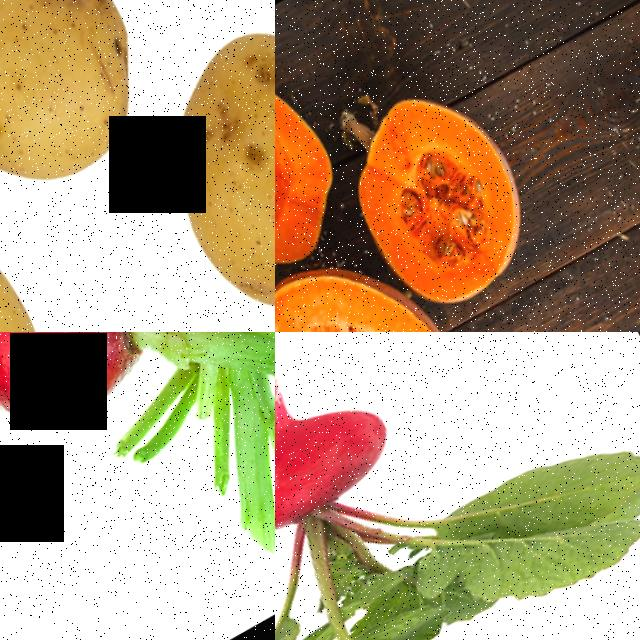potato: (115, 0, 275, 332), (0, 0, 193, 244)
pumpkin: (322, 68, 570, 332), (275, 220, 546, 332), (275, 34, 380, 309)
radishes: (275, 357, 493, 640), (0, 332, 275, 503)
